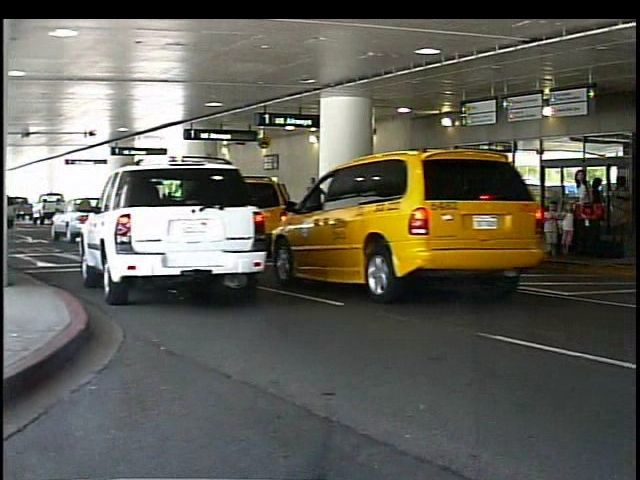person: (494, 171, 523, 260), (570, 168, 597, 257), (589, 175, 609, 244), (562, 200, 579, 253)
